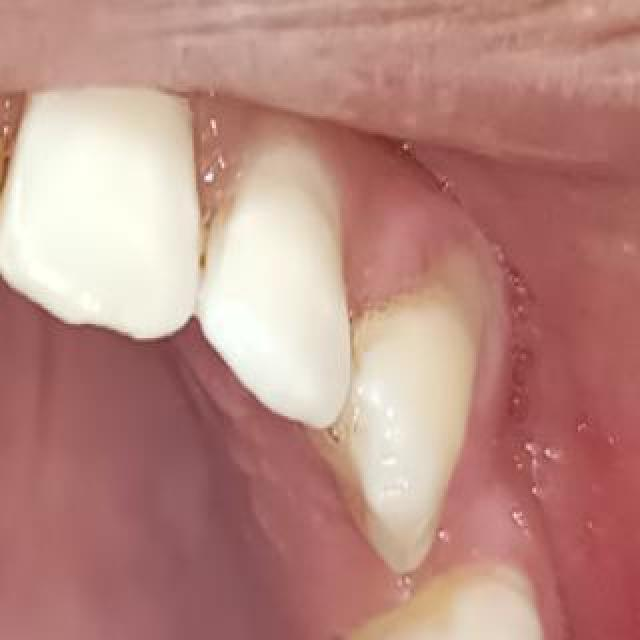missing: (330, 518, 500, 640)
stains: (0, 66, 44, 206)
